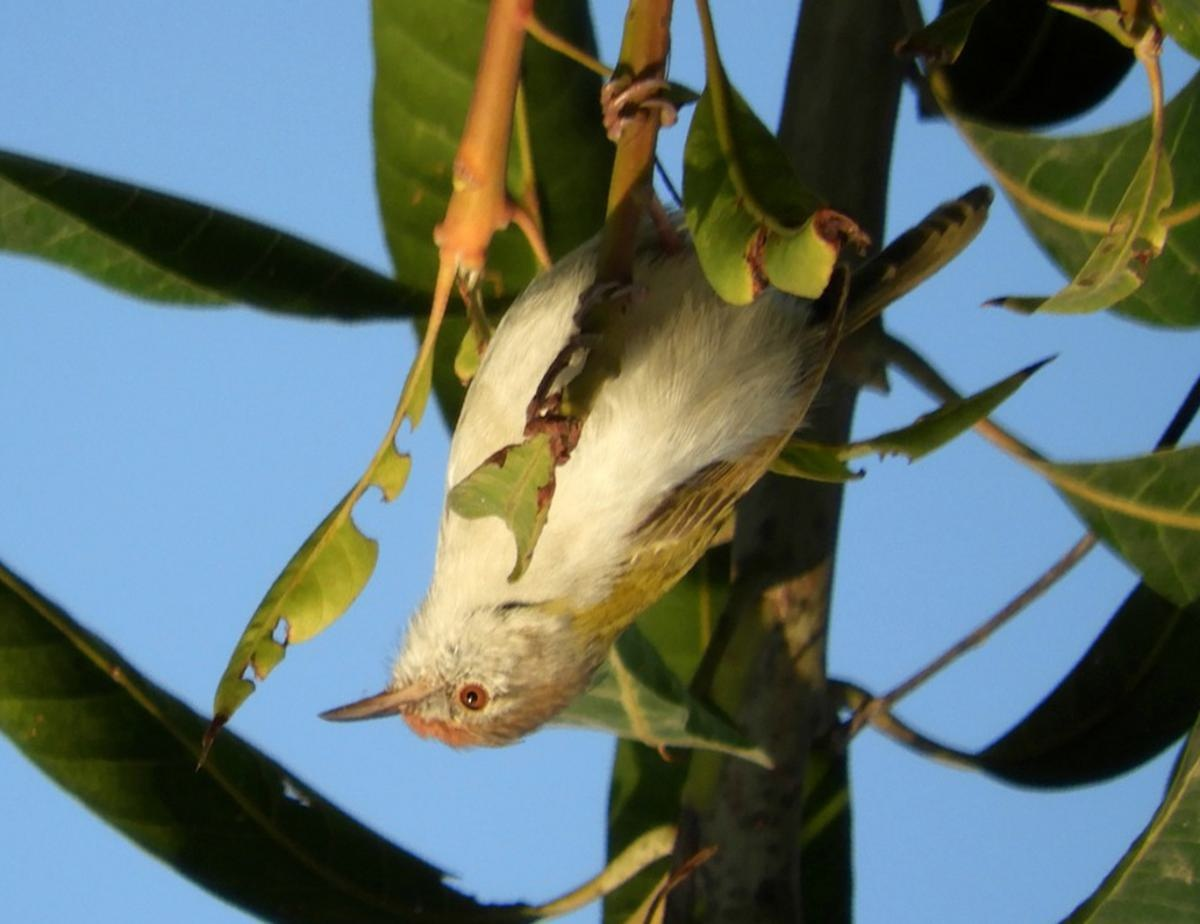tailorbird: (304, 122, 1029, 780)
